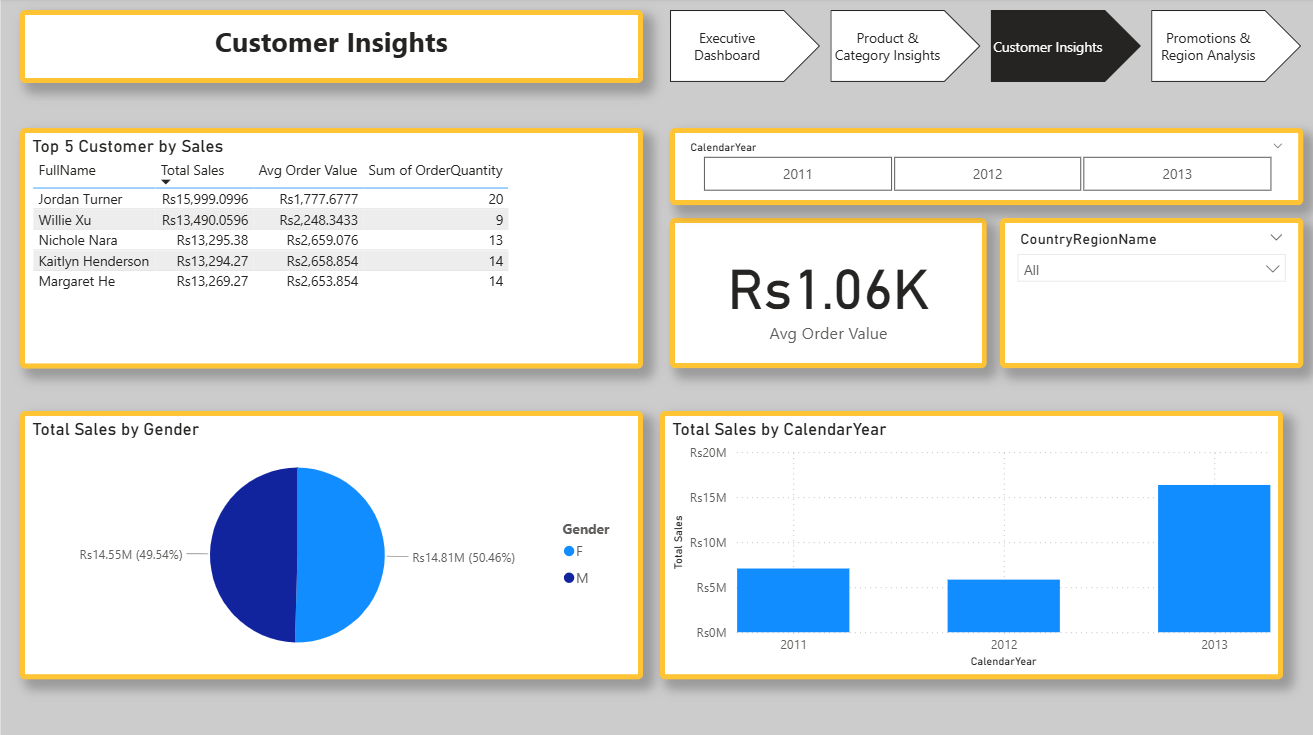

What the dashboard file says about the page in this screenshot:
{"tool":"powerbi","page":{"name":"Customer Insights","canvas":[1280,720],"ordinal":2},"visuals":[{"type":"tableEx","title":"Top 5 Customer by Sales","fields":{"Values":["DimCustomer.FullName","Measurestbl.Total Sales","Measurestbl.Avg Order Value","FactInternetSales.OrderQuantity"]},"box":[18,126.1,605.7,234.2],"z":0},{"type":"pieChart","fields":{"Y":["Measurestbl.Total Sales"],"Category":["DimCustomer.Gender"]},"box":[18,401.9,605.7,261.2],"z":1000},{"type":"card","fields":{"Values":["Measurestbl.Avg Order Value"]},"box":[650.7,213.9,308.5,146.4],"z":2000},{"type":"clusteredColumnChart","fields":{"Category":["DimDate.CalendarYear"],"Y":["Measurestbl.Total Sales"]},"box":[640.6,401.9,605.7,261.2],"z":3000},{"type":"slicer","fields":{"Values":["DimDate.CalendarYear"]},"box":[650.7,126.1,615.8,75.4],"z":4000},{"type":"slicer","fields":{"Values":["DimGeography.CountryRegionName"]},"box":[971.5,213.9,295,146.4],"z":5000},{"type":"textbox","box":[18,11.3,605.7,70.9],"z":6000},{"type":"pageNavigator","box":[650.7,11.3,615.8,70.9],"z":7000}]}

Visuals, with their boxes in screenshot pixels (x1, y1, x2, y2), scaled from the page's 1280x720 canvas onto the 1313x735 screenshot:
"Top 5 Customer by Sales" tableEx: rect(18, 129, 640, 368)
pieChart - Measurestbl.Total Sales x DimCustomer.Gender: rect(18, 410, 640, 677)
card - Measurestbl.Avg Order Value: rect(667, 218, 984, 368)
clusteredColumnChart - DimDate.CalendarYear x Measurestbl.Total Sales: rect(657, 410, 1278, 677)
slicer - DimDate.CalendarYear: rect(667, 129, 1299, 206)
slicer - DimGeography.CountryRegionName: rect(997, 218, 1299, 368)
textbox: rect(18, 12, 640, 84)
pageNavigator: rect(667, 12, 1299, 84)
